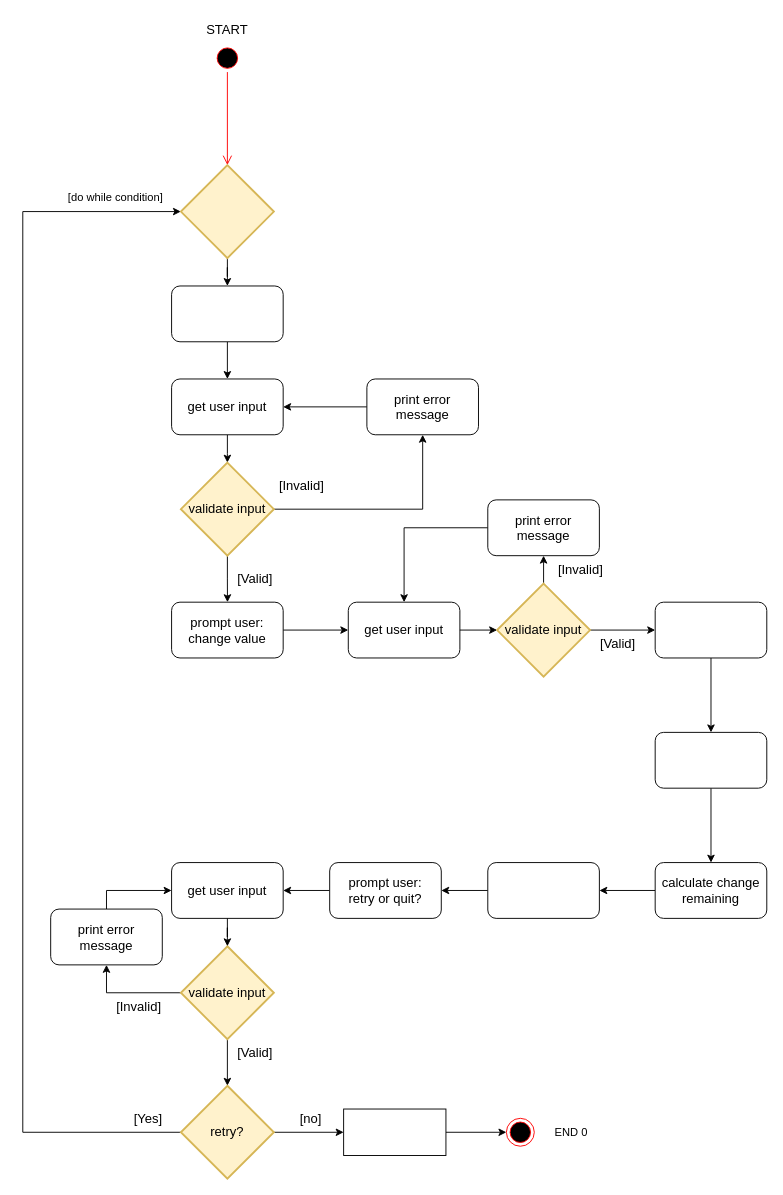
The diagram is 783 pixels wide and 1195 high, and some of its shapes have lost their labels. Here are the shapes that lost their labels. From the top down, the centre of each, then its label:
At [227,313]: "prompt user: enter currency".
At [710,629]: "display users values".
At [710,759]: "calculate coin amounts".
At [543,890]: "display coin values and amounts".
At [394,1132]: "press enter to quit".
